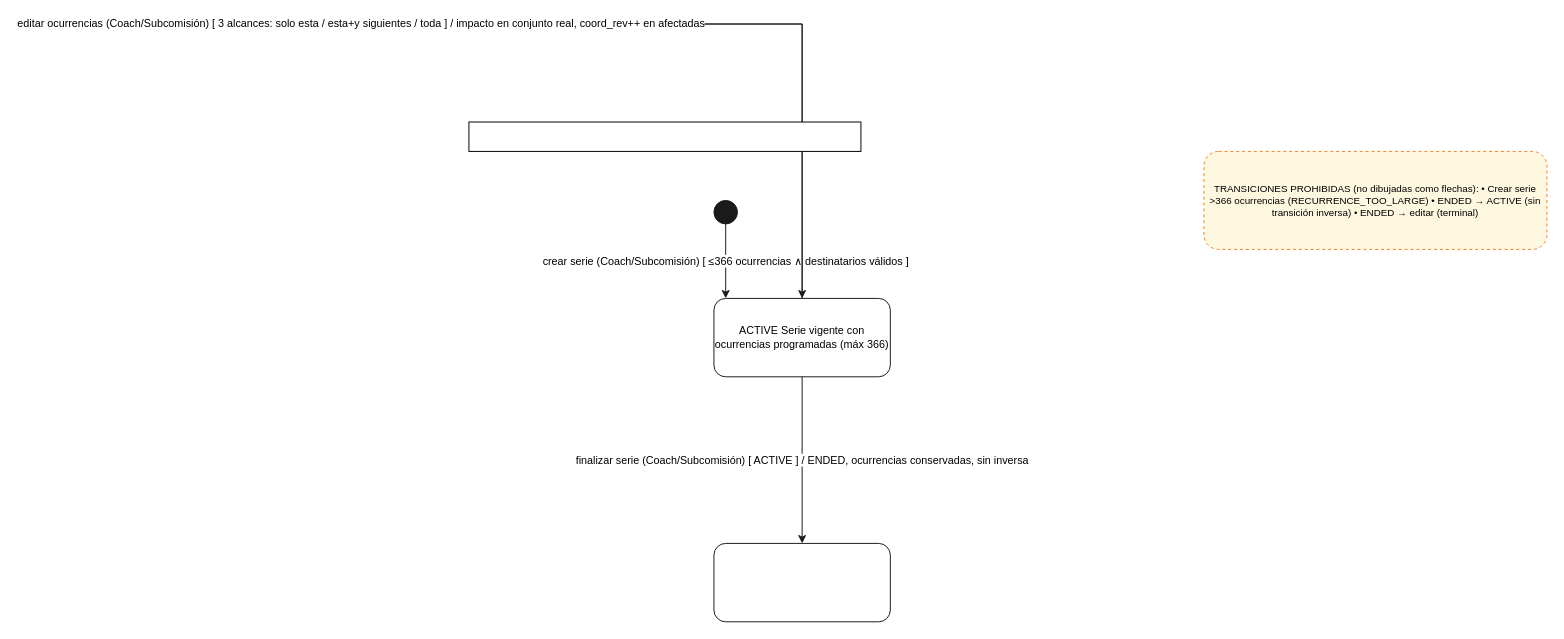
Some shapes in this 1564 by 639 pixel diagram are drawn without their labels. Here are the shapes that lost their labels. From the top down, the box of each, then its label:
(468, 121, 861, 151): EventSeries Lifecycle
(713, 542, 890, 622): ENDED Serie finalizada (terminal), ocurrencias conservadas
